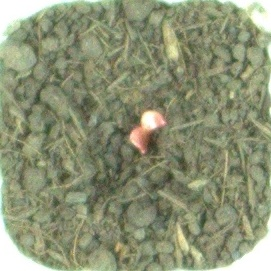pepper seed: (49, 47, 205, 204), (55, 42, 223, 175)
